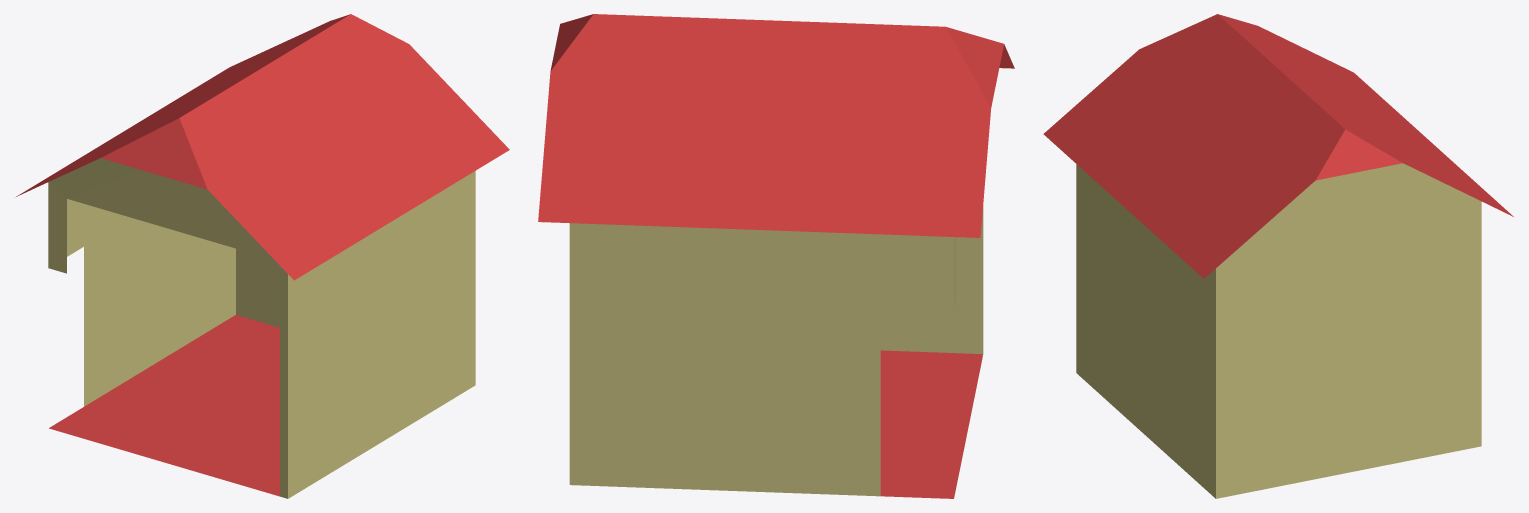
3 views of the same model, side by side, from view 1: azimuth 30°, elevation 25°; view 2: azimuth 150°, elevation 25°; view 3: azimuth 270°, elevation 25° (orthographic). The views are drawn at different scales.
Bounding box in the file's own units: 14.74 × 14.22 × 11.33.
